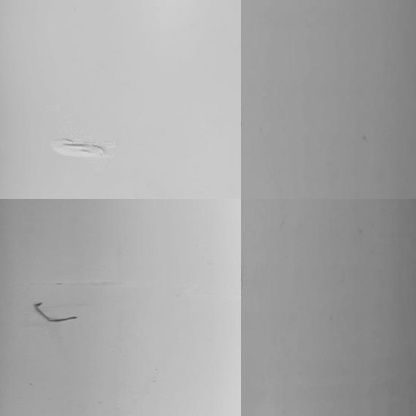fengxi: (33, 298, 82, 322)
sunshang: (50, 134, 113, 164)
